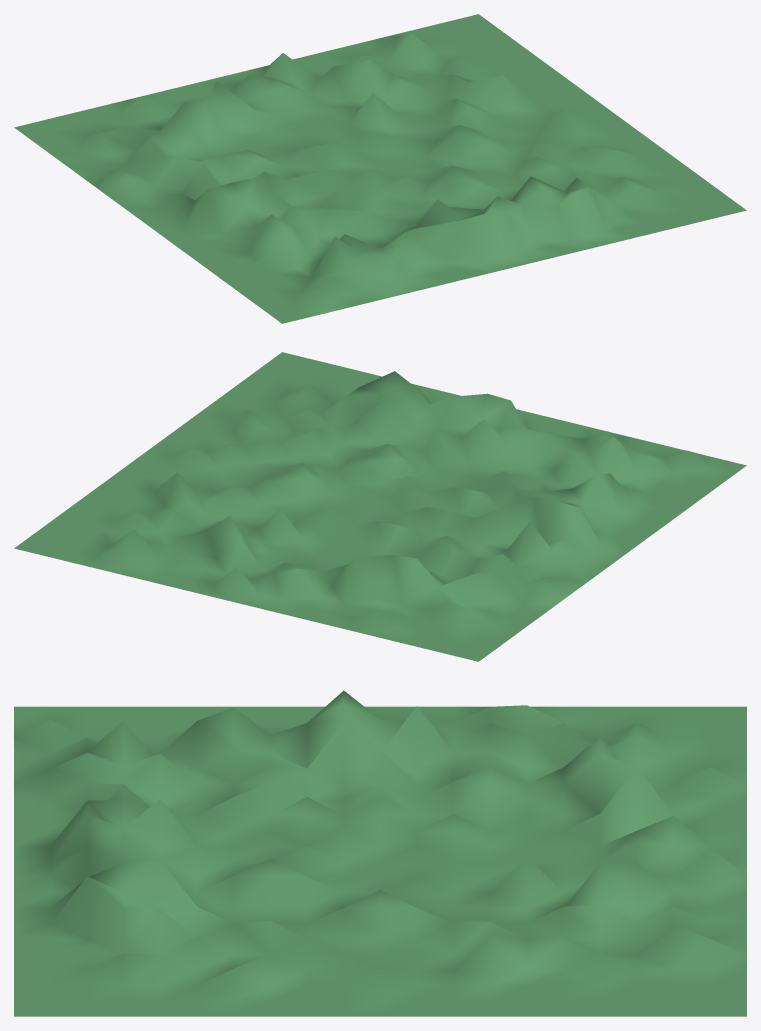
Rendered from Ground.fbx.
3 views of the same model, one above another, from view 1: azimuth 30°, elevation 25°; view 2: azimuth 150°, elevation 25°; view 3: azimuth 270°, elevation 25° (orthographic). The views are drawn at different scales.
Visible parts, largest first — view 1: pPlane1; view 2: pPlane1; view 3: pPlane1.
Boxes of the visible parts, <box> form: pPlane1: <box>14,14,746,323</box>; pPlane1: <box>14,352,746,661</box>; pPlane1: <box>14,690,746,1016</box>.
Bounding box in the file's own units: 50 × 3.67 × 50.
